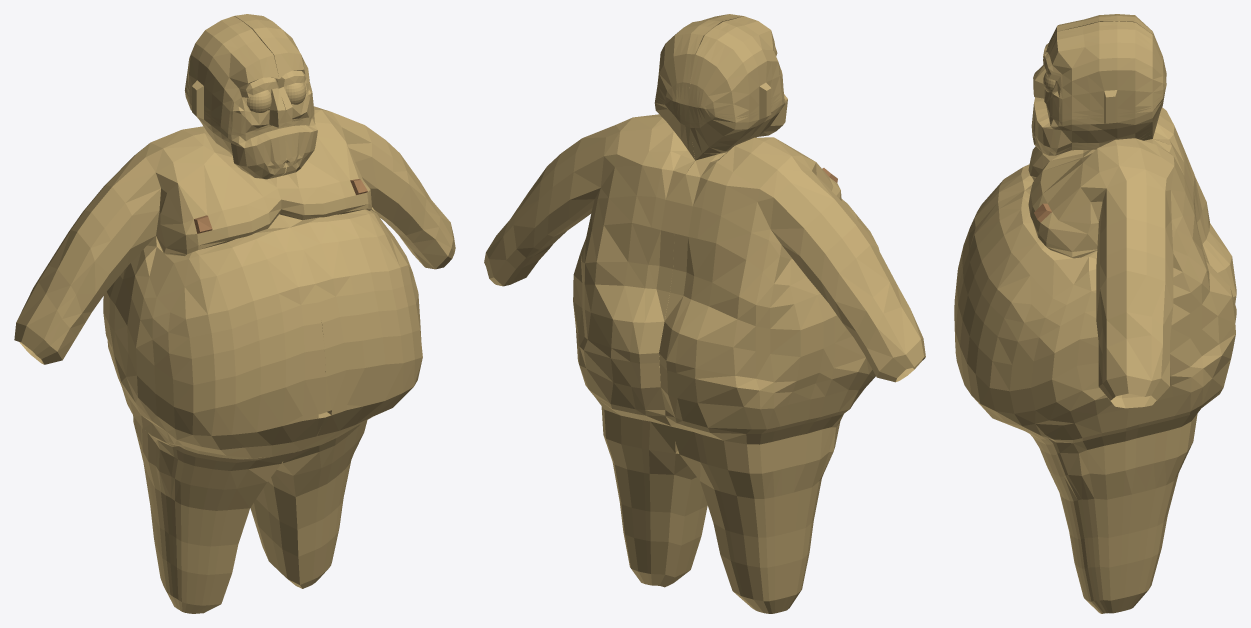
Rendered from gordo.dae.
The picture shows the model from 3 angles, left to right: view 1: azimuth 30°, elevation 25°; view 2: azimuth 150°, elevation 25°; view 3: azimuth 270°, elevation 25°; orthographic projection.
Visible parts, largest first — view 1: Cube_001; view 2: Cube_001; view 3: Cube_001.
Part boxes in pixels (left/top/right/bottom): Cube_001: left=14, top=14, right=455, bottom=613; Cube_001: left=484, top=14, right=925, bottom=613; Cube_001: left=954, top=14, right=1236, bottom=613.
Bounding box in the file's own units: 8.47 × 4.86 × 10.69.
